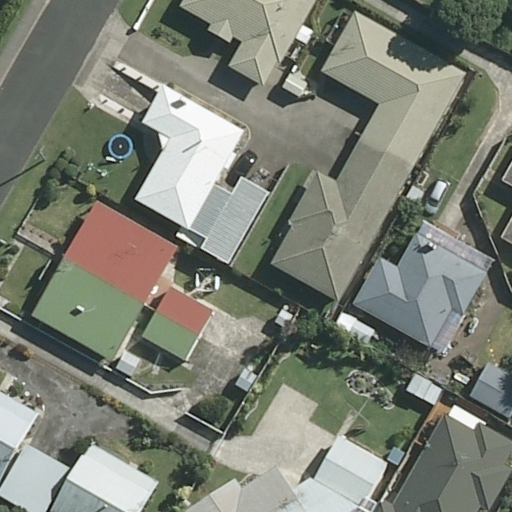DT: (34, 145, 49, 166)
